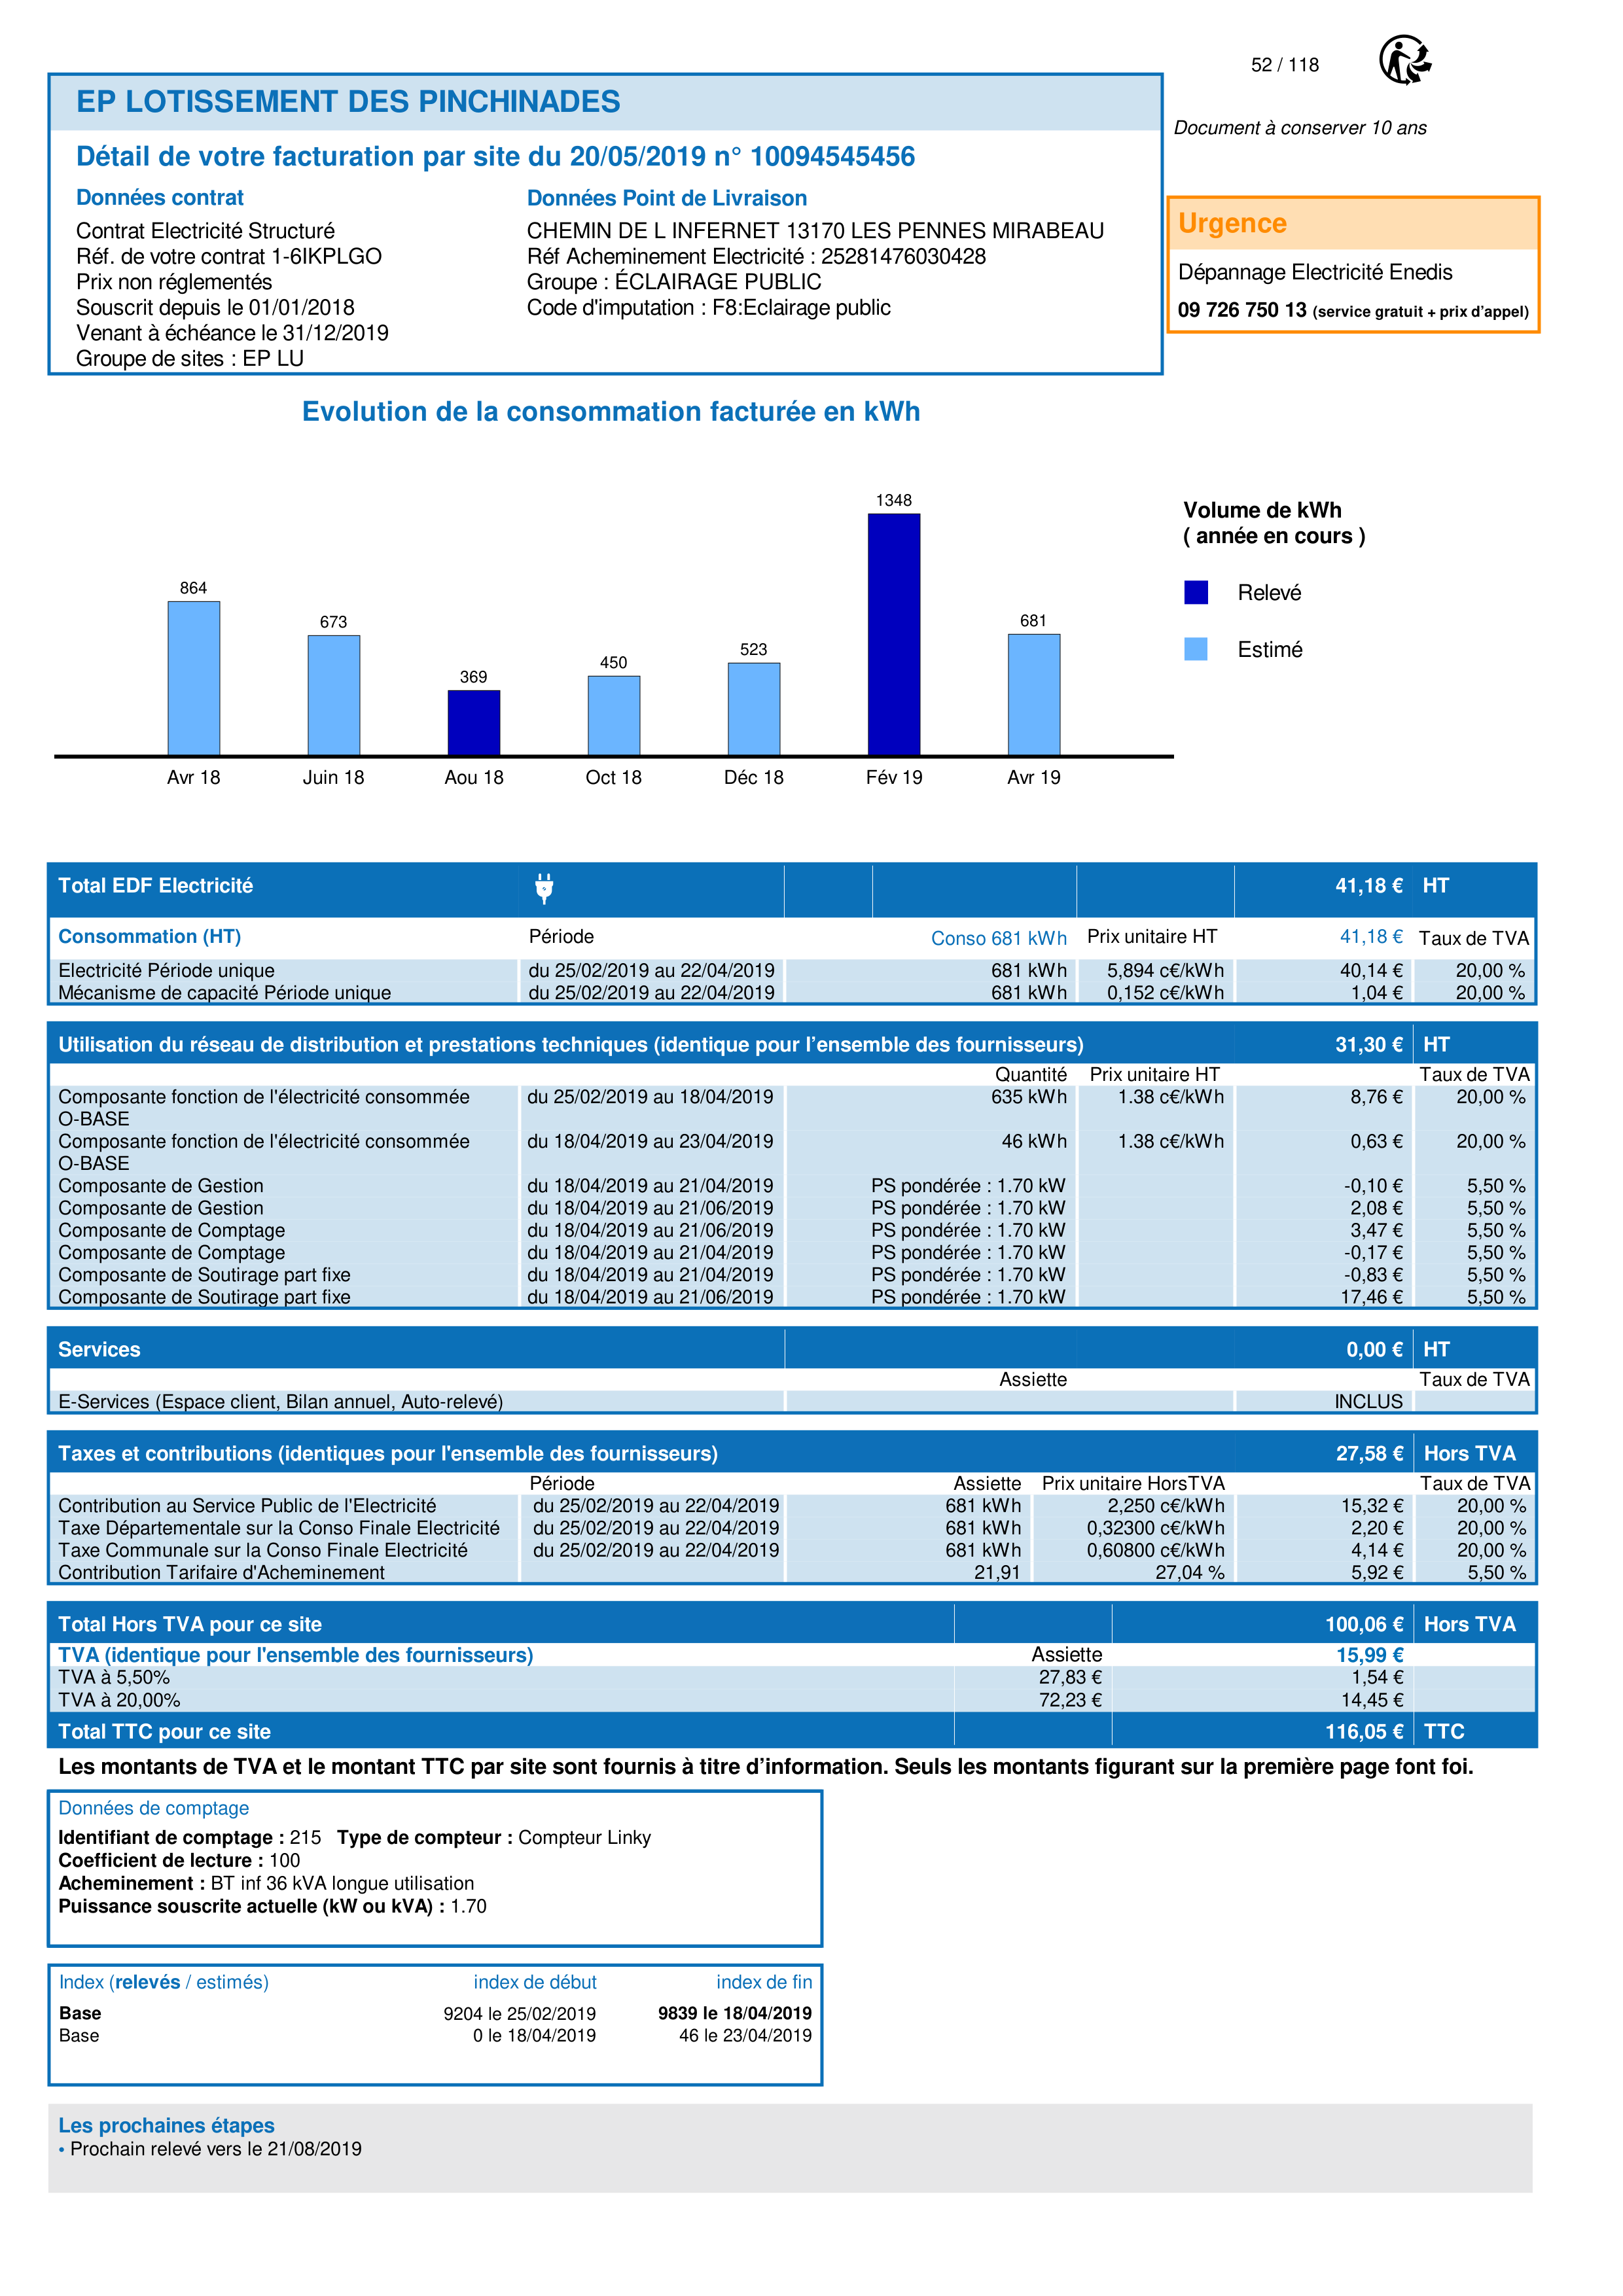area: (49, 1964, 822, 2085)
type_indicator: (49, 1964, 283, 2001)
